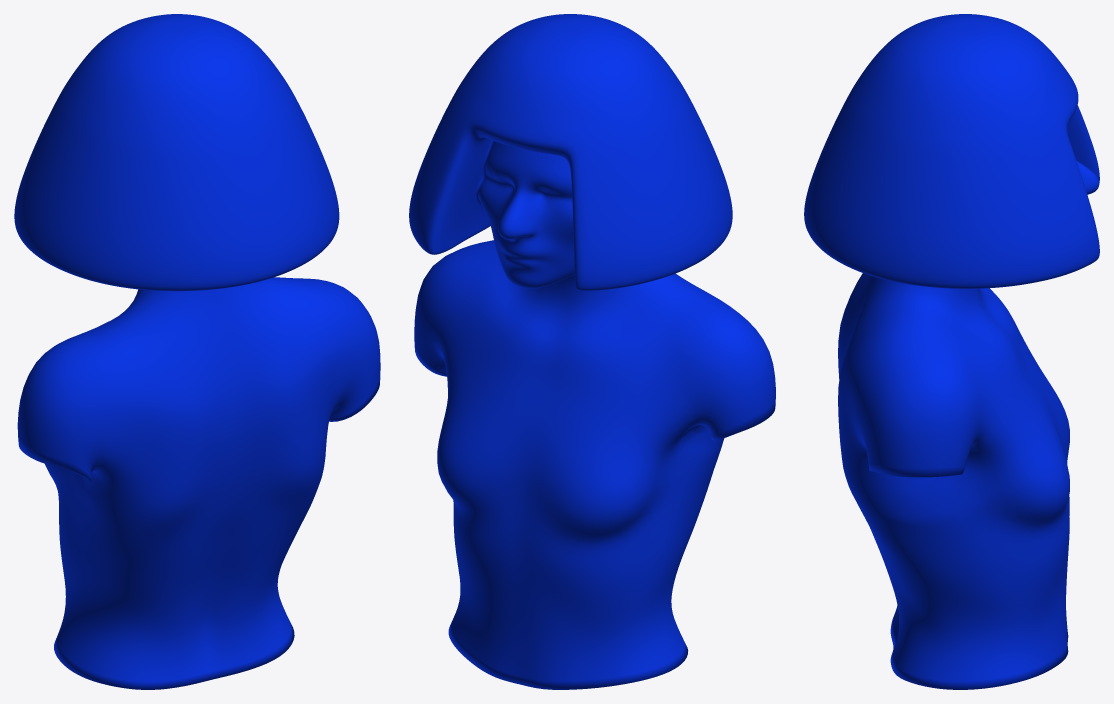
The model's file is mellszobor_weblaphoz.fbx.
The picture shows the model from 3 angles, left to right: view 1: azimuth 30°, elevation 25°; view 2: azimuth 150°, elevation 25°; view 3: azimuth 270°, elevation 25°; orthographic projection.
Visible parts, largest first — view 1: Retopo_asd.002; view 2: Retopo_asd.002; view 3: Retopo_asd.002.
Boxes of the visible parts, bbox=[...] form: Retopo_asd.002: bbox=[14, 14, 380, 689]; Retopo_asd.002: bbox=[409, 14, 775, 689]; Retopo_asd.002: bbox=[804, 14, 1099, 689].
Bounding box in the file's own units: 289 × 498 × 215.
